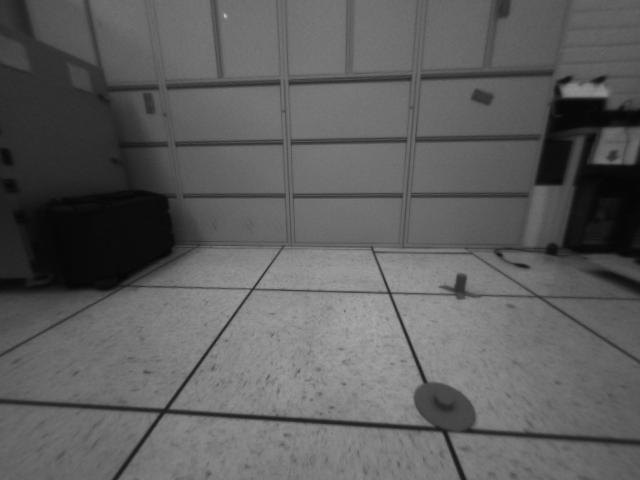X: (439, 272, 482, 300)
